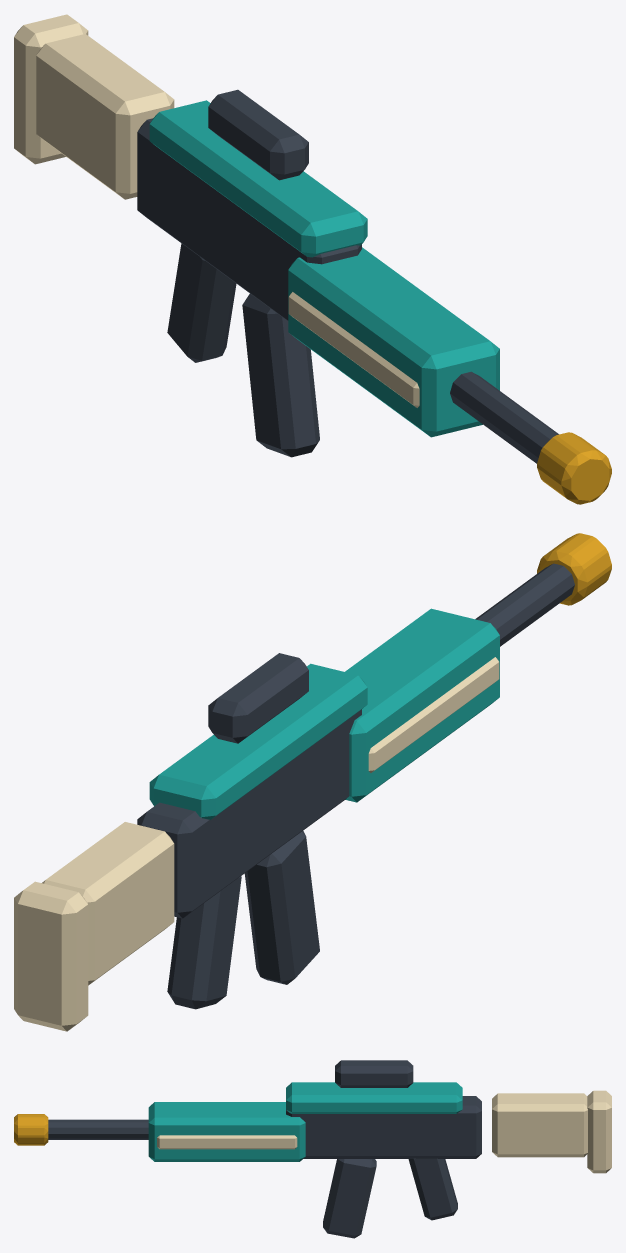
The model's file is weapon_gunner-DrY-f9BO.glb.
3 views of the same model, one above another, from view 1: azimuth 30°, elevation 25°; view 2: azimuth 150°, elevation 25°; view 3: azimuth 270°, elevation 25° (orthographic). The views are drawn at different scales.
Visible parts, largest first — view 1: weapon_gunner; view 2: weapon_gunner; view 3: weapon_gunner.
Part boxes in pixels (x1=…): weapon_gunner: x1=14, y1=14, x2=611, y2=504; weapon_gunner: x1=14, y1=533, x2=611, y2=1031; weapon_gunner: x1=14, y1=1060, x2=611, y2=1238.
Bounding box in the file's own units: 0.11 × 0.3888 × 1.22.
